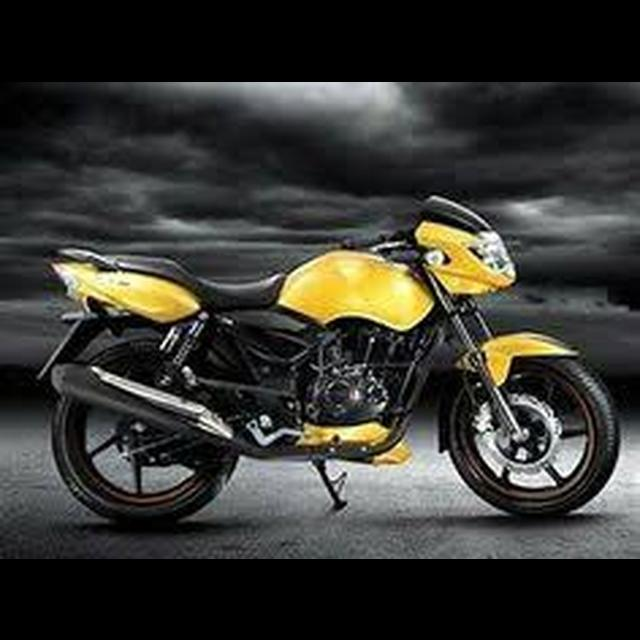motorcycle: (33, 183, 625, 538)
